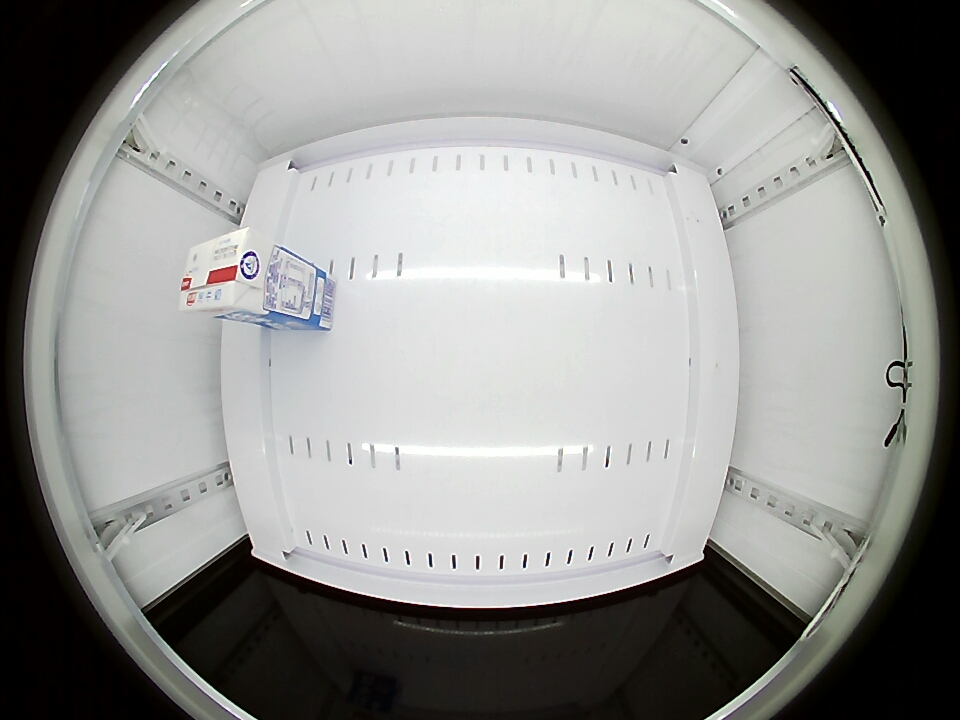niunai: (179, 227, 275, 319)
